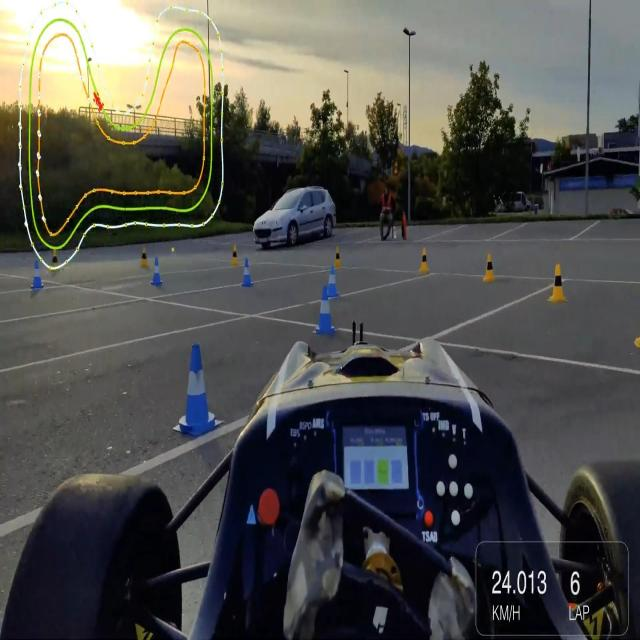blue_cone: (178, 341, 216, 438), (315, 285, 336, 333), (30, 258, 45, 291), (327, 265, 340, 298), (241, 258, 253, 288), (151, 255, 163, 284)
yellow_cone: (549, 262, 567, 303), (483, 253, 497, 282), (49, 246, 60, 274), (420, 246, 430, 274), (333, 246, 343, 271), (140, 247, 149, 270), (231, 244, 239, 268)
